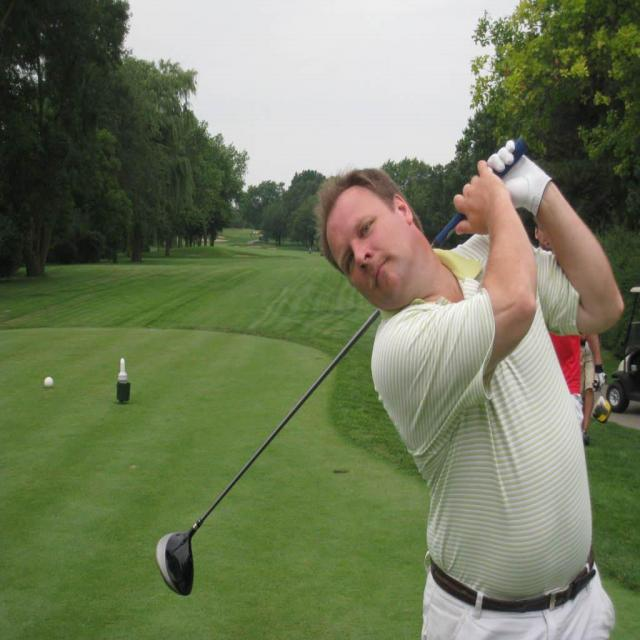ClubHead: (148, 498, 228, 610)
GolfBall: (38, 371, 58, 391)
